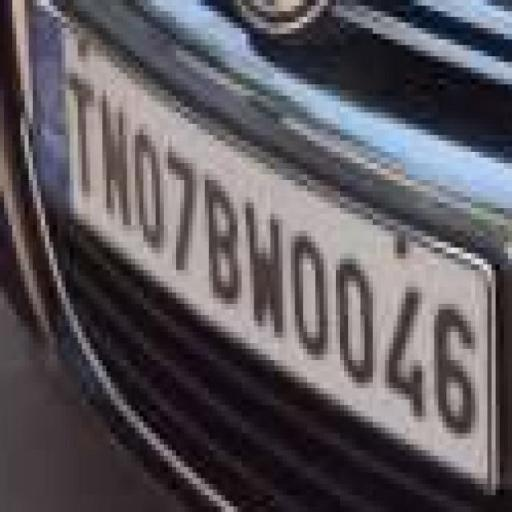number plate: (24, 62, 512, 388)
